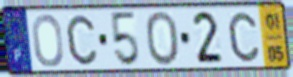2: (191, 10, 226, 66)
5: (108, 10, 142, 68)
C: (64, 13, 99, 67), (226, 10, 261, 64)
O: (144, 10, 182, 68), (30, 12, 66, 69)
